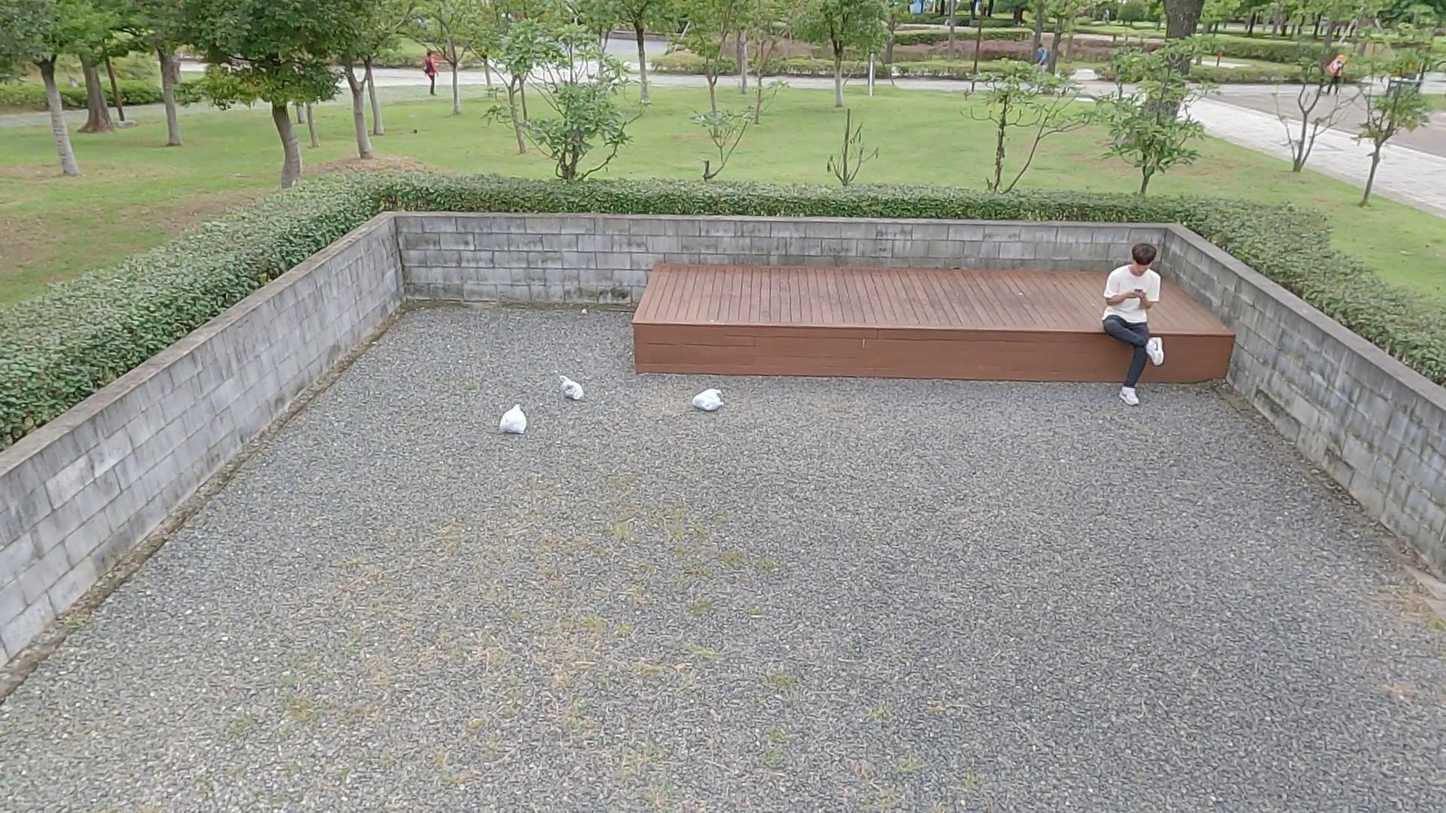person: (1099, 241, 1169, 416), (418, 45, 448, 95)
trash: (492, 399, 535, 446), (557, 368, 589, 408), (687, 385, 728, 416)
